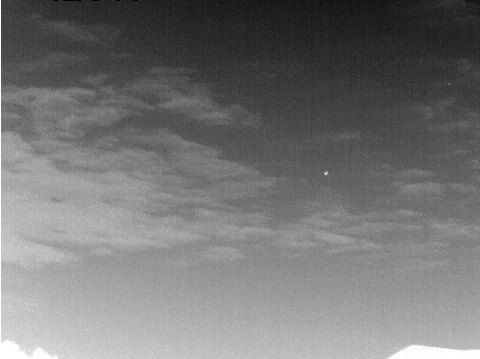dim target: (323, 170, 328, 176), (447, 81, 452, 87)
